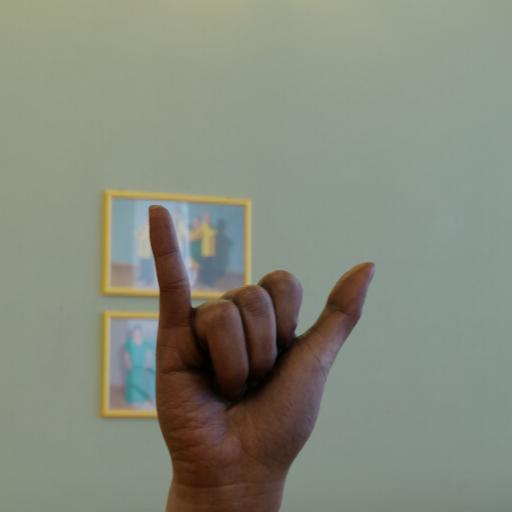Y: (140, 197, 389, 512)
